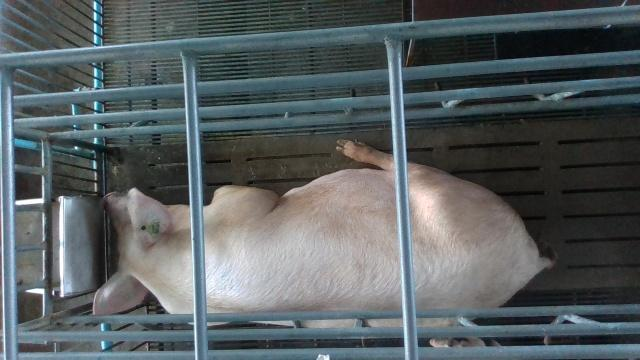sow-sleep: (95, 135, 559, 327)
